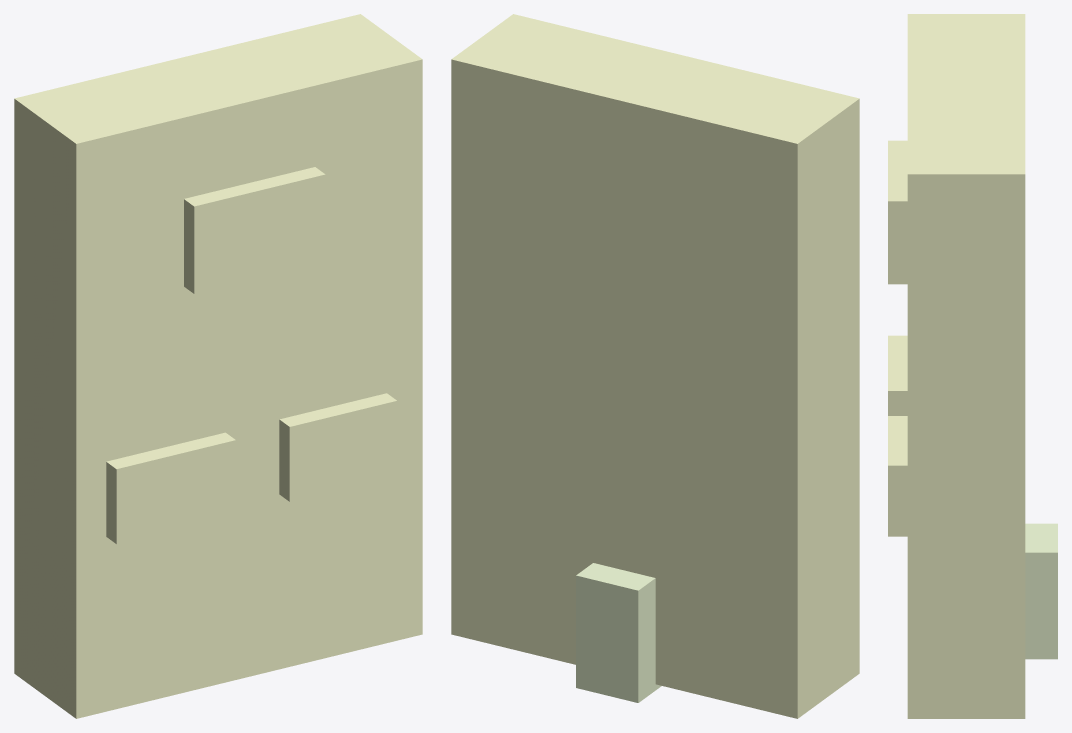
The model's file is signal_bus_priority_diamond_3_aspect.glb.
The picture shows the model from 3 angles, left to right: view 1: azimuth 30°, elevation 25°; view 2: azimuth 150°, elevation 25°; view 3: azimuth 270°, elevation 25°; orthographic projection. The views are drawn at different scales.
Parts seen in each view (by area): view 1: housing, display_bus_stop, display_bus_go, display_bus_call; view 2: housing, bracket; view 3: housing, bracket, display_bus_stop, display_bus_call, display_bus_go.
Boxes of the visible parts, x1,y1,x2,y2 form: housing: [14, 14, 422, 718]; display_bus_stop: [184, 167, 325, 293]; display_bus_go: [106, 432, 235, 544]; display_bus_call: [279, 393, 397, 501]; housing: [451, 14, 859, 718]; bracket: [576, 563, 661, 702]; housing: [907, 14, 1025, 718]; bracket: [1025, 523, 1057, 659]; display_bus_stop: [888, 140, 907, 284]; display_bus_call: [888, 416, 907, 536]; display_bus_go: [888, 335, 907, 415].
Size of the model in its own units: 0.58 by 0.93 by 0.26.
